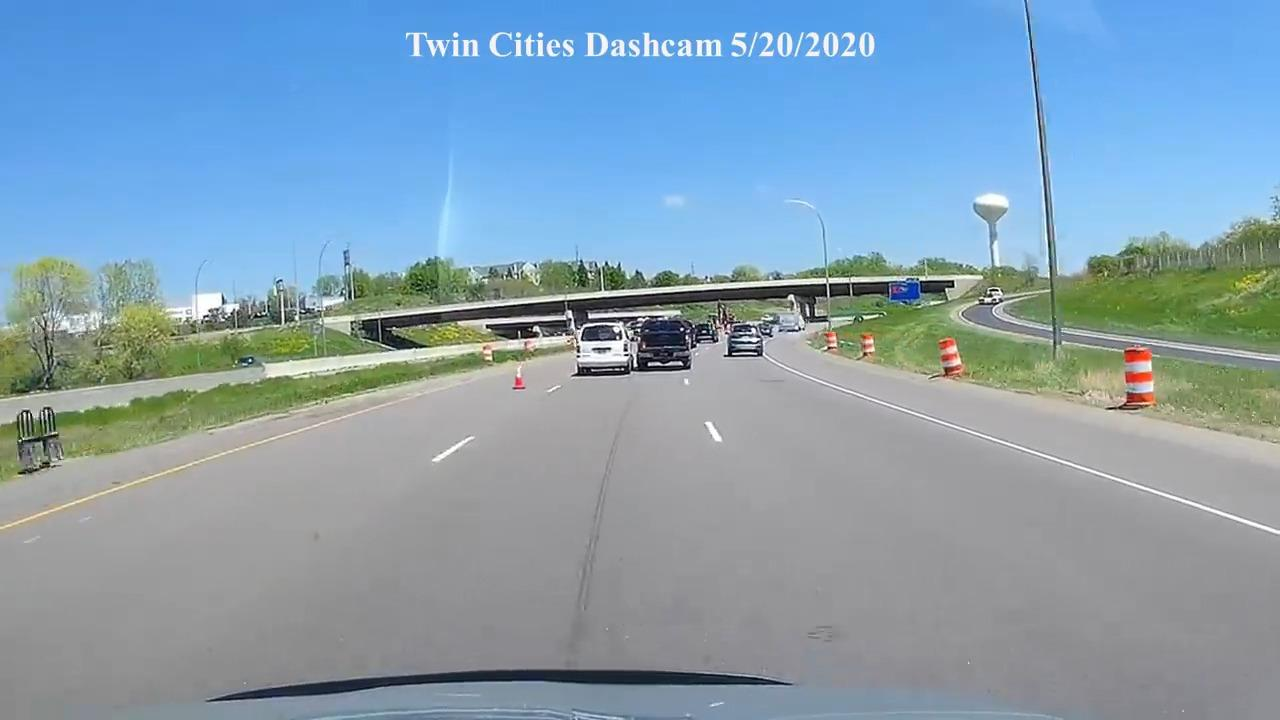car: (981, 286, 1004, 303), (235, 356, 265, 369)
traffic cone: (1120, 346, 1156, 409), (938, 337, 964, 376), (859, 333, 875, 359), (822, 330, 839, 352), (513, 364, 526, 391)
